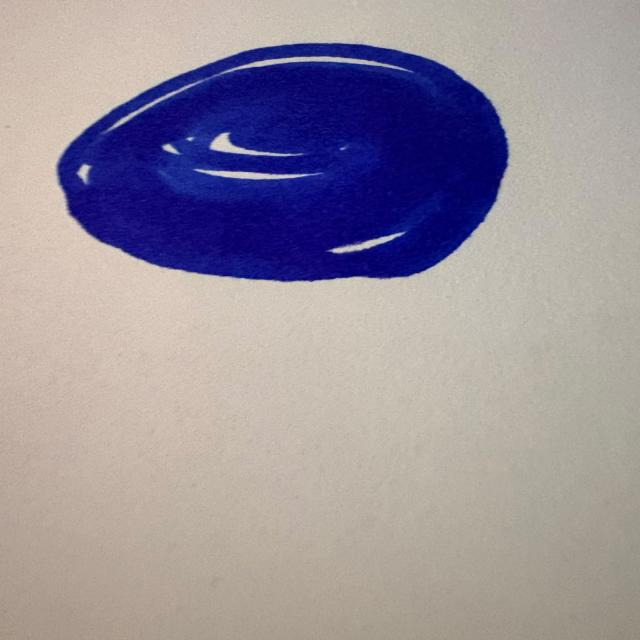Circle: (51, 38, 528, 288)
